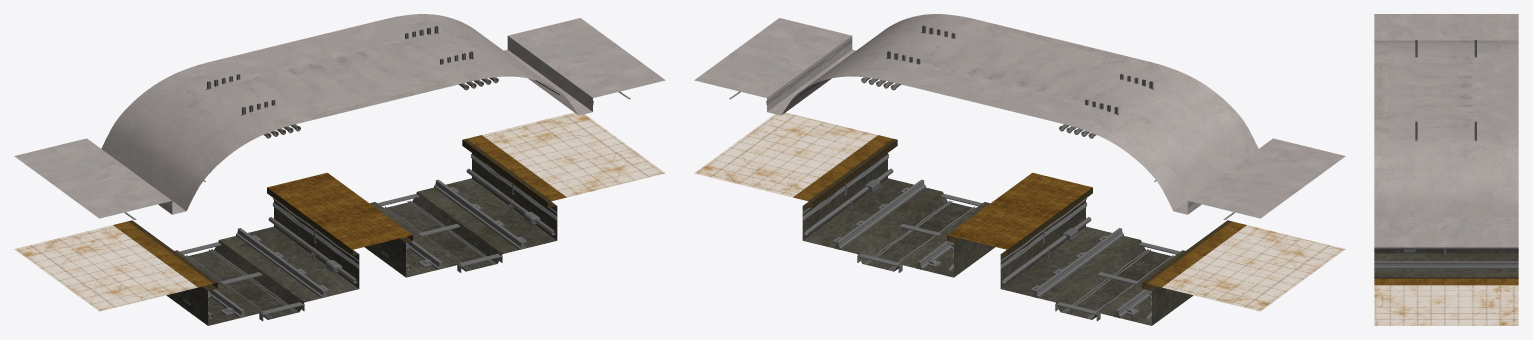
Rendered from Ped_Tunnel_Middle_02_02.fbx.
3 views of the same model, side by side, from view 1: azimuth 30°, elevation 25°; view 2: azimuth 150°, elevation 25°; view 3: azimuth 270°, elevation 25° (orthographic). The views are drawn at different scales.
Parts seen in each view (by area): view 1: Ped_Tunnel_Middle_02_02; view 2: Ped_Tunnel_Middle_02_02; view 3: Ped_Tunnel_Middle_02_02.
Boxes of the visible parts, left/top/right/bottom form: Ped_Tunnel_Middle_02_02: left=14, top=14, right=665, bottom=325; Ped_Tunnel_Middle_02_02: left=694, top=14, right=1345, bottom=325; Ped_Tunnel_Middle_02_02: left=1374, top=14, right=1518, bottom=325.
Bounding box in the file's own units: 1916 × 627 × 501.
